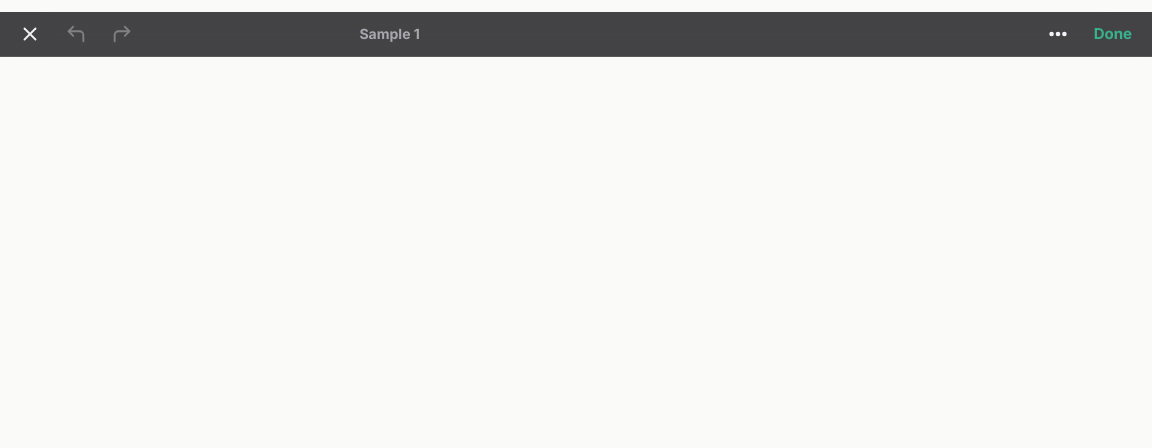
Test: D8-F11: the overflow menu is a real popover › every entry is a menuitem and the unavailable one is disabled
Click the button named "More options" at (1058, 34), box [1036,12,1080,56]
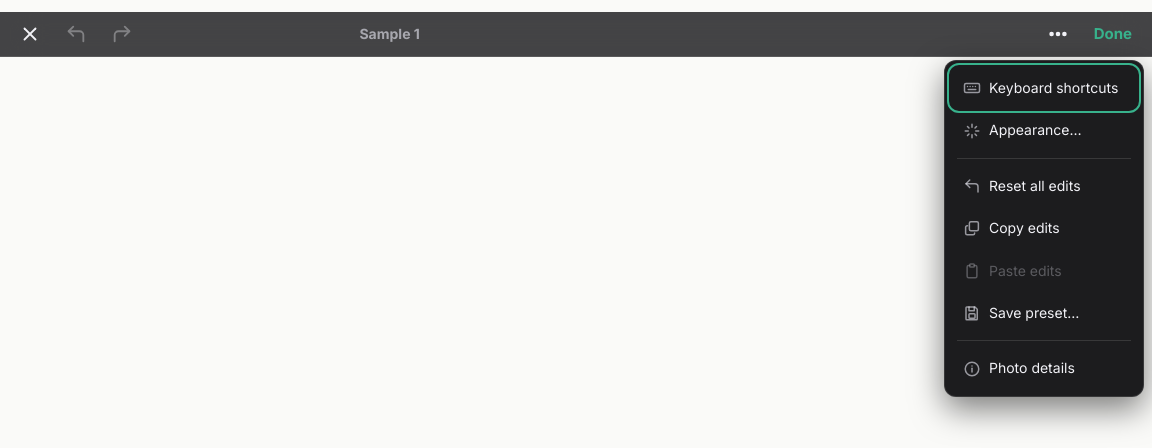
Now the menu item "Paste edits" is disabled, box [951,250,1137,292]
